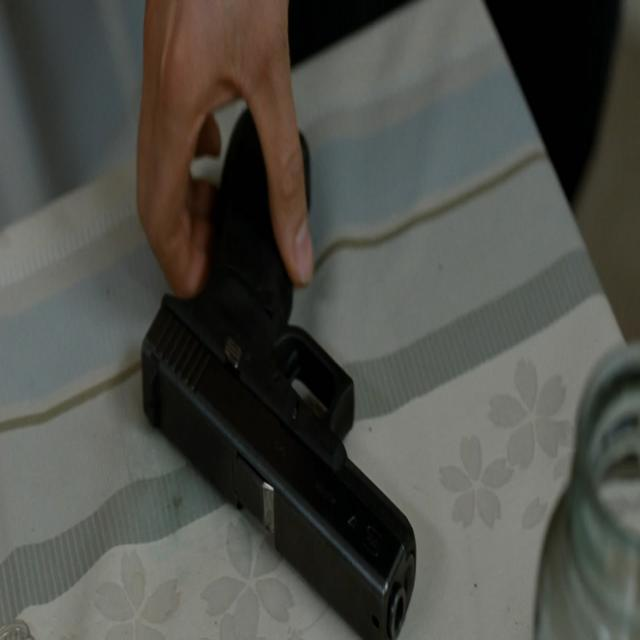gun-knife-thesis - v11 Yolov5 augmented: (140, 102, 423, 640)
